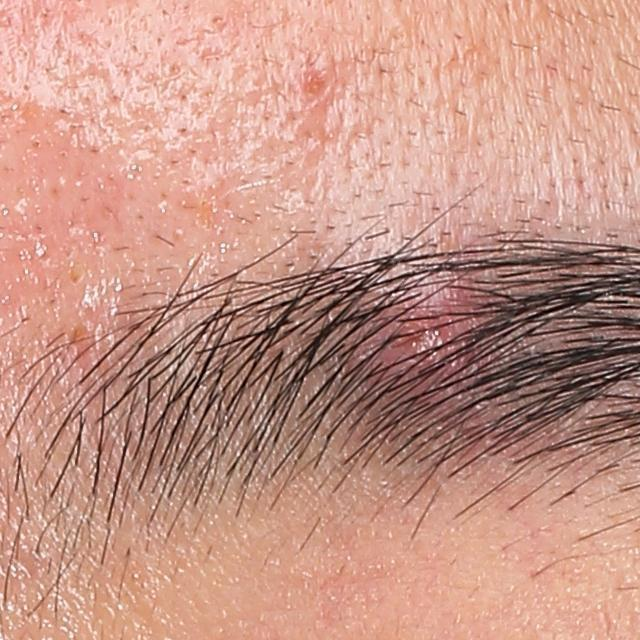papule: (380, 296, 480, 386), (294, 63, 328, 98)
